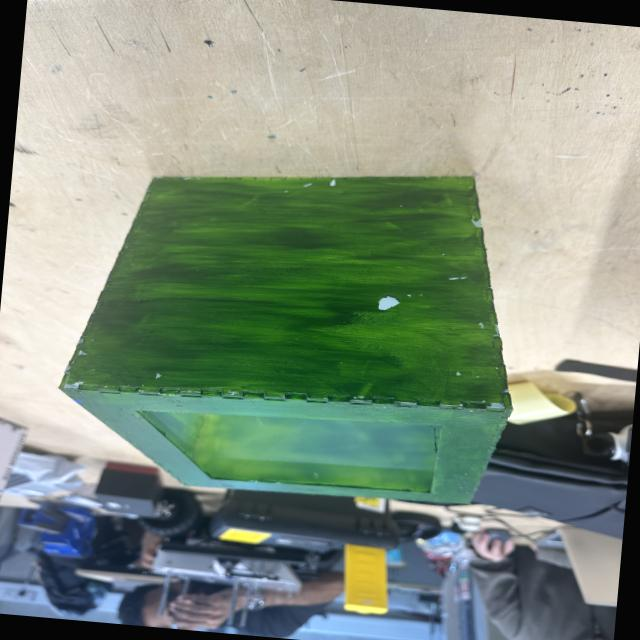green_bin: (48, 140, 533, 515)
